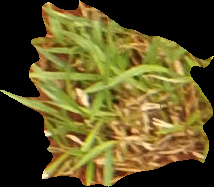grass: (1, 1, 213, 186)
